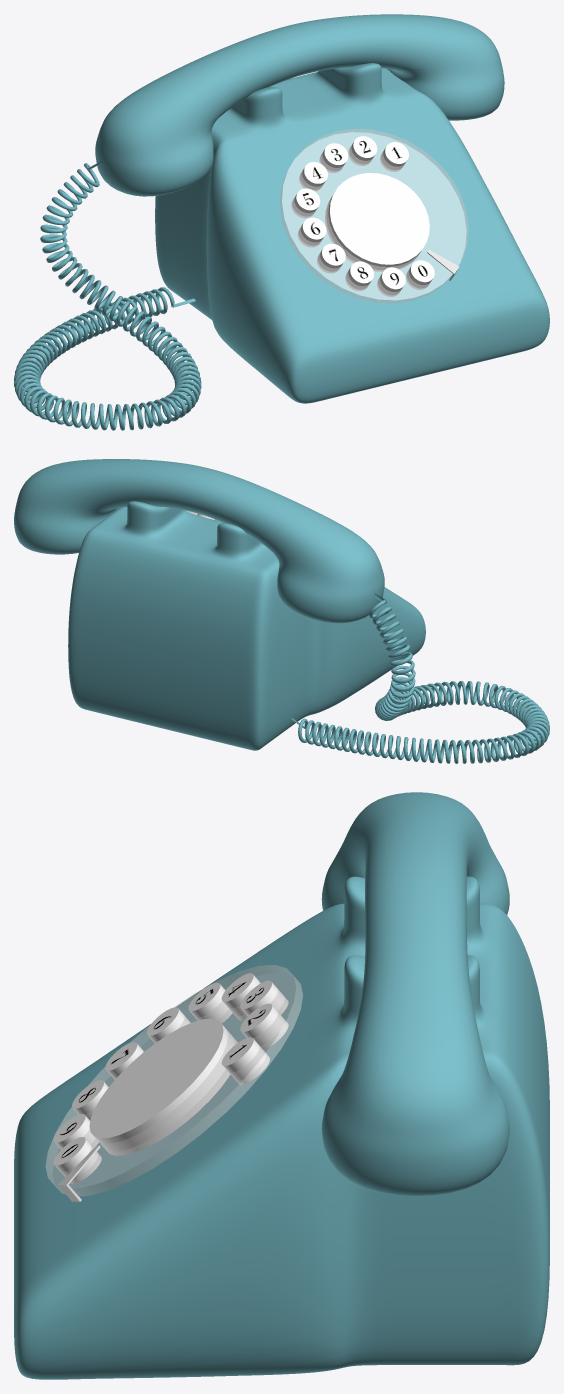
File: retro-phone.glb
The picture shows the model from 3 angles, top to bottom: view 1: azimuth 30°, elevation 25°; view 2: azimuth 150°, elevation 25°; view 3: azimuth 270°, elevation 25°; orthographic projection. The views are drawn at different scales.
Parts seen in each view (by area): view 1: Cube, 立方体, 円, 円柱, 円柱.002, 円柱.003; view 2: Cube, 立方体, 円; view 3: Cube, 立方体, 円柱, 円柱.002, 円柱.003.
Part boxes in pixels (x1,y1,x2,y2): Cube: (155, 63, 549, 403); 立方体: (95, 14, 504, 196); 円: (14, 160, 201, 430); 円柱: (280, 128, 468, 303); 円柱.002: (325, 173, 429, 271); 円柱.003: (291, 136, 434, 296); Cube: (68, 501, 425, 750); 立方体: (14, 459, 384, 623); 円: (291, 593, 549, 763); Cube: (14, 876, 549, 1379); 立方体: (321, 792, 509, 1196); 円柱: (45, 965, 302, 1196); 円柱.002: (89, 1018, 237, 1155); 円柱.003: (53, 973, 288, 1183).
Size of the model in its own units: 3.35 by 1.66 by 1.83.
Materials: 7 (1 with a texture image).
